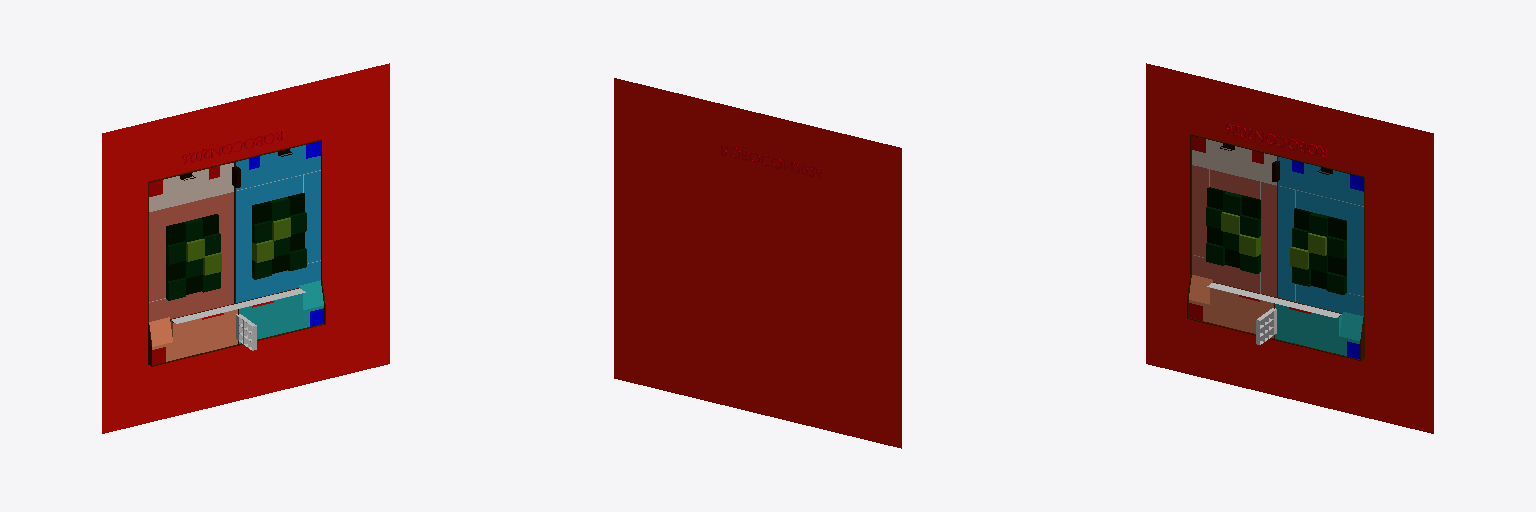
The model's file is robocon2026.obj.
3 views of the same model, side by side, from view 1: azimuth 30°, elevation 25°; view 2: azimuth 150°, elevation 25°; view 3: azimuth 330°, elevation 25° (orthographic).
Parts seen in each view (by area): view 1: groundplane, main_map, edge_fence, baffle, place_rack; view 2: groundplane; view 3: groundplane, main_map, edge_fence, baffle, place_rack.
Part boxes in pixels (left/top/right/bottom): groundplane: left=102, top=63, right=389, bottom=433; main_map: left=149, top=141, right=323, bottom=364; edge_fence: left=148, top=139, right=325, bottom=366; baffle: left=171, top=288, right=305, bottom=323; place_rack: left=236, top=314, right=256, bottom=350; groundplane: left=614, top=78, right=901, bottom=448; groundplane: left=1146, top=63, right=1433, bottom=433; main_map: left=1189, top=136, right=1363, bottom=358; edge_fence: left=1187, top=134, right=1364, bottom=360; baffle: left=1207, top=283, right=1341, bottom=317; place_rack: left=1256, top=308, right=1276, bottom=344.
Bounding box in the file's own units: 20 × 20 × 2.44.